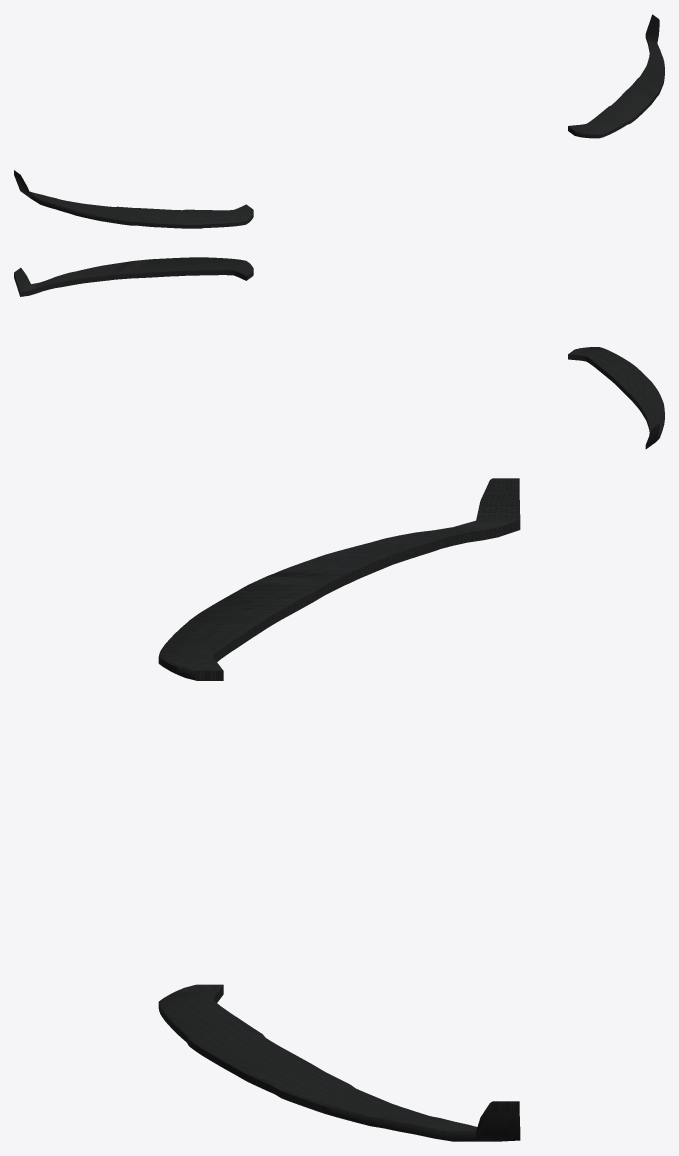
The model's file is FA30_carbon_corner_splitters.glb.
3 renders of one model, top to bottom at view 1: azimuth 30°, elevation 25°; view 2: azimuth 150°, elevation 25°; view 3: azimuth 270°, elevation 25°, orthographic. The views are drawn at different scales.
Parts seen in each view (by area): view 1: MOD_ND_FA30_corner_blade_neg1, MOD_ND_FA30_corner_blade_1; view 2: MOD_ND_FA30_corner_blade_1, MOD_ND_FA30_corner_blade_neg1; view 3: MOD_ND_FA30_corner_blade_neg1, MOD_ND_FA30_corner_blade_1.
Part boxes in pixels (x1,y1,x2,y2): MOD_ND_FA30_corner_blade_neg1: (14,170,253,228); MOD_ND_FA30_corner_blade_1: (568,14,664,138); MOD_ND_FA30_corner_blade_1: (14,257,253,296); MOD_ND_FA30_corner_blade_neg1: (568,347,664,449); MOD_ND_FA30_corner_blade_neg1: (158,478,520,680); MOD_ND_FA30_corner_blade_1: (158,984,520,1141).
Size of the model in its own units: 1.59 by 0.059 by 0.3895.
1 material, 1 textured.
